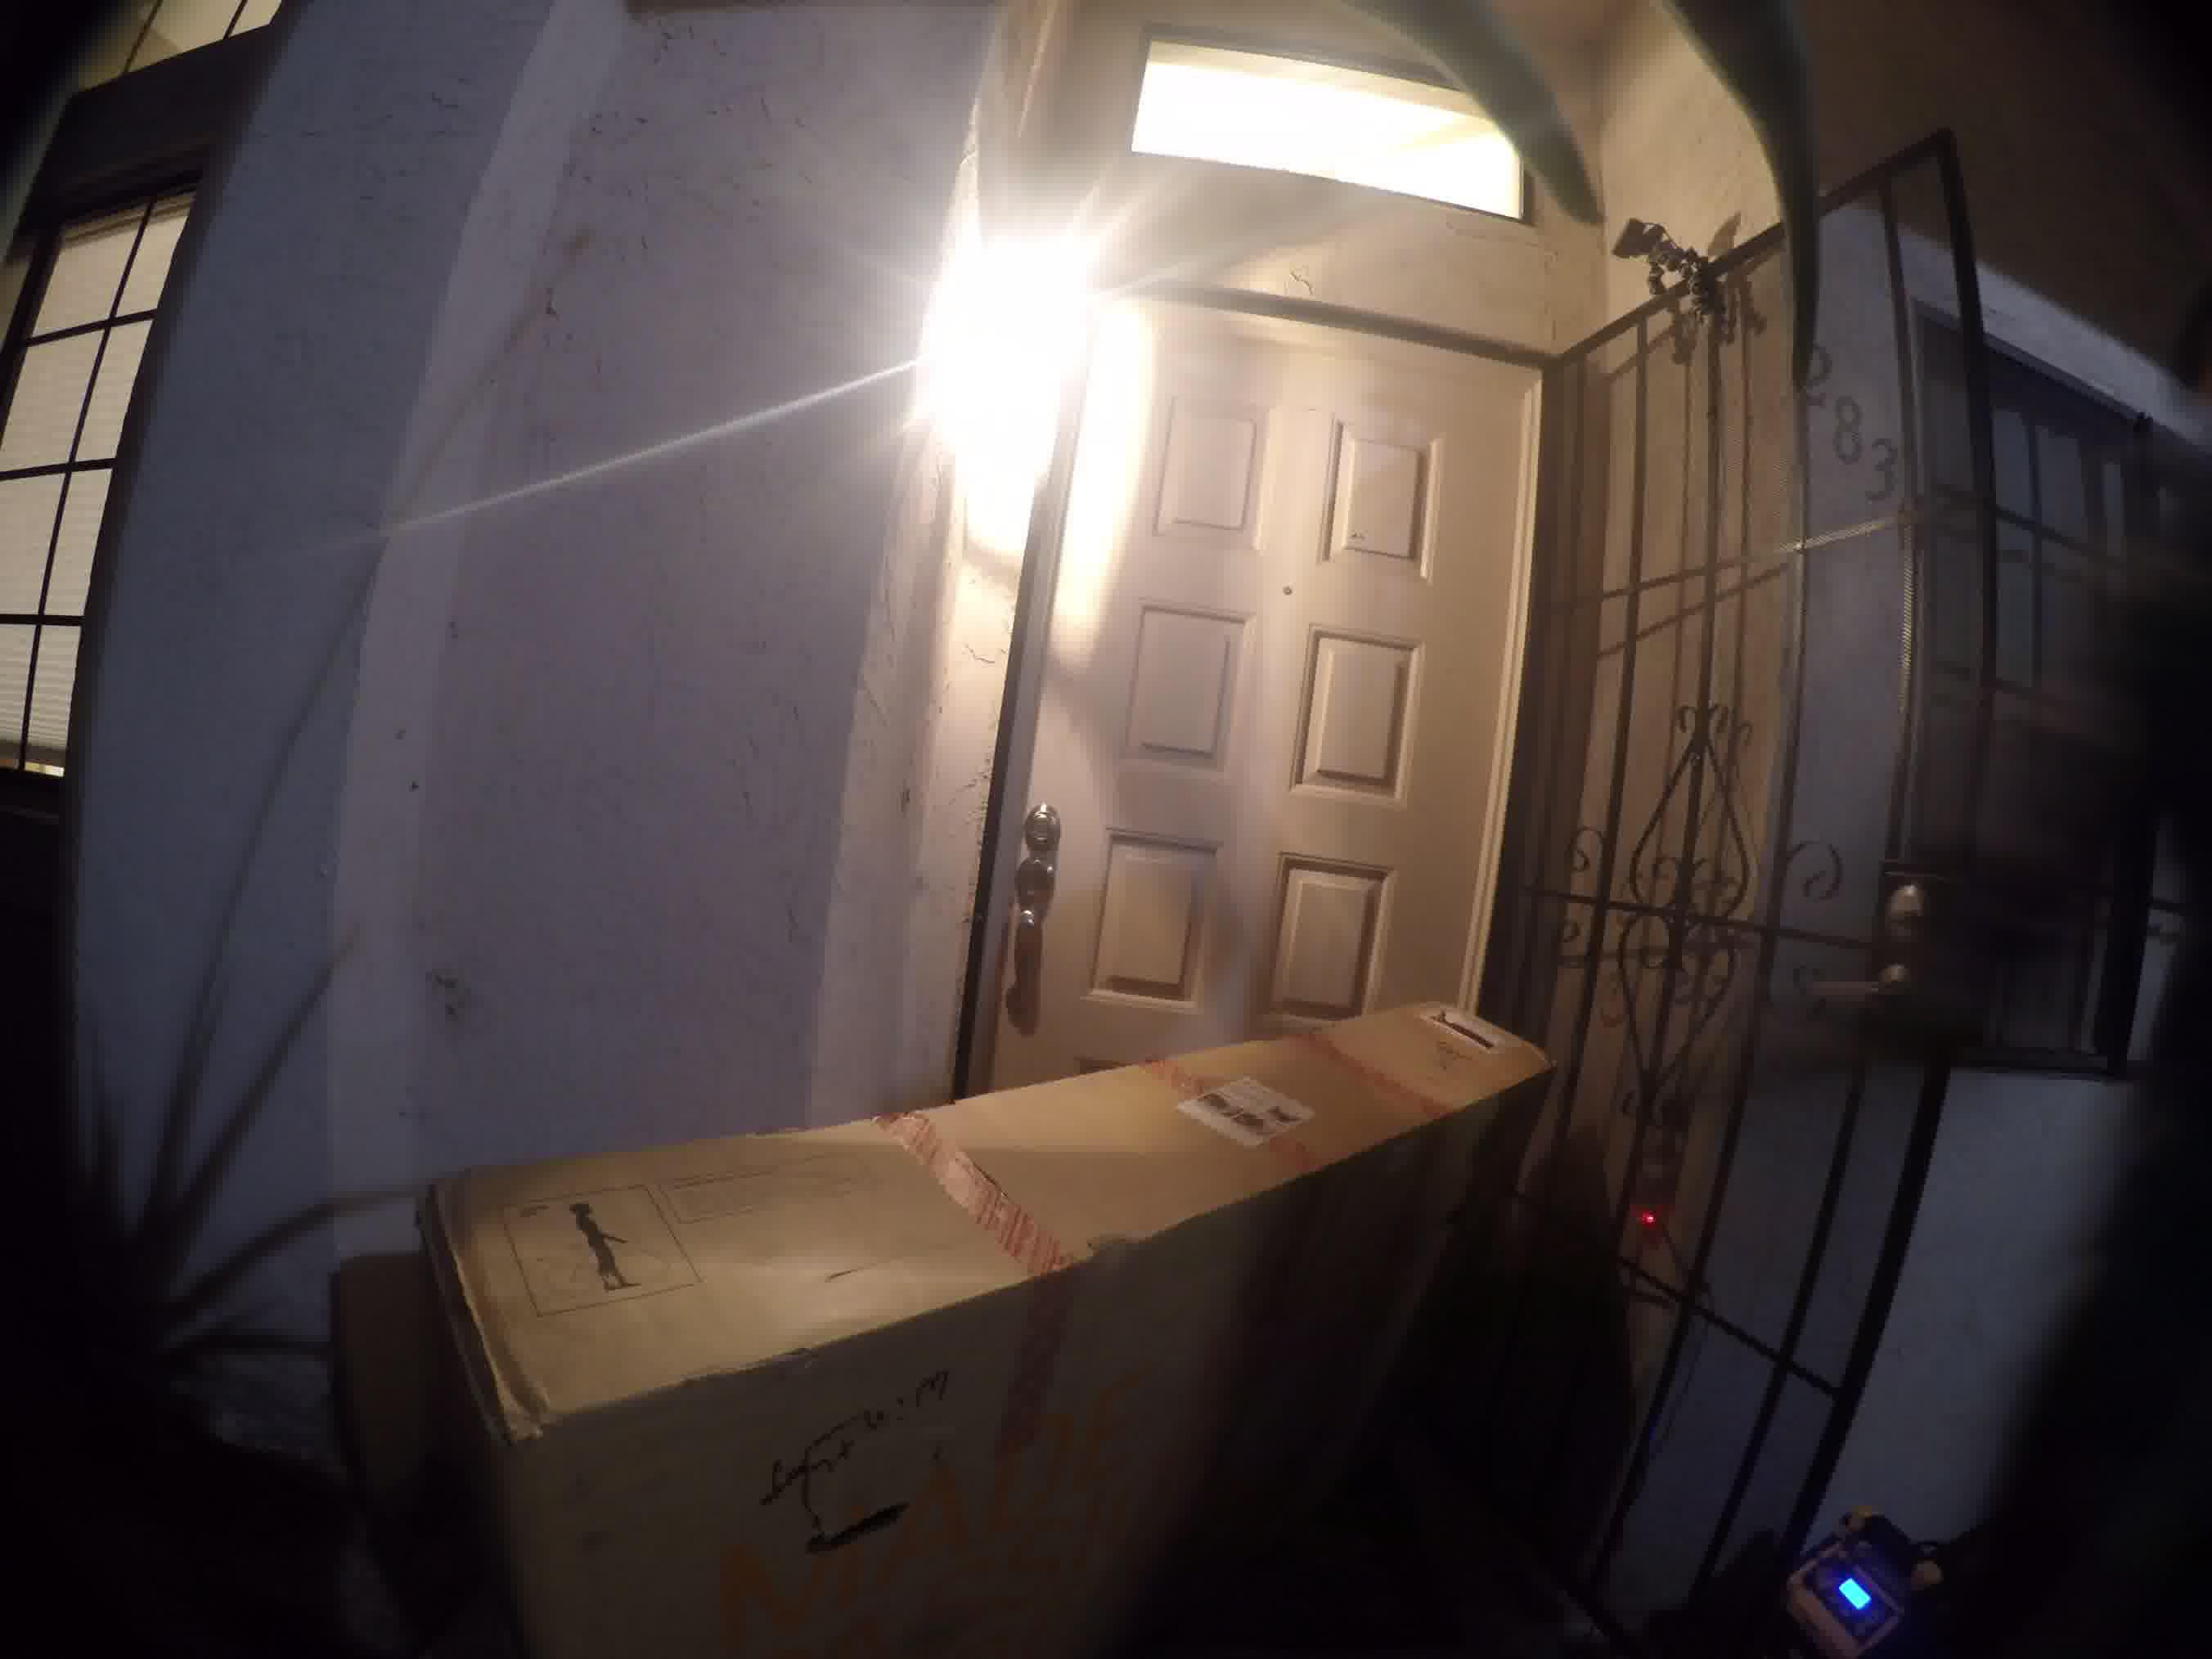box: (385, 936, 1592, 1614)
